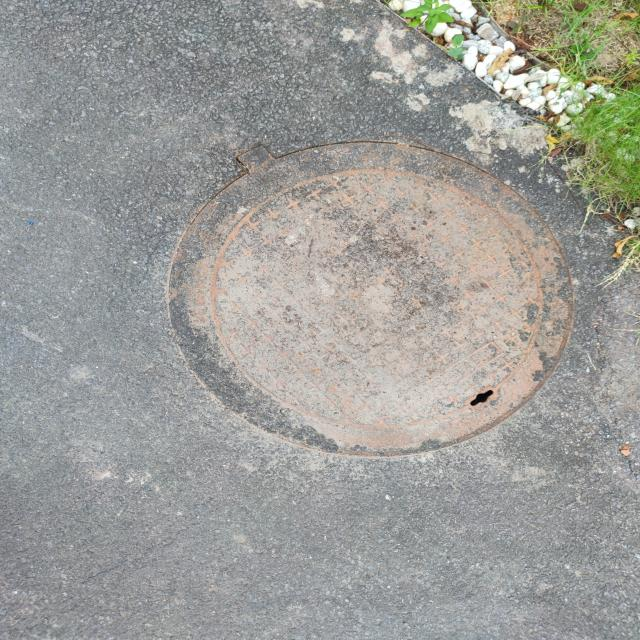Good: (160, 136, 581, 466)
